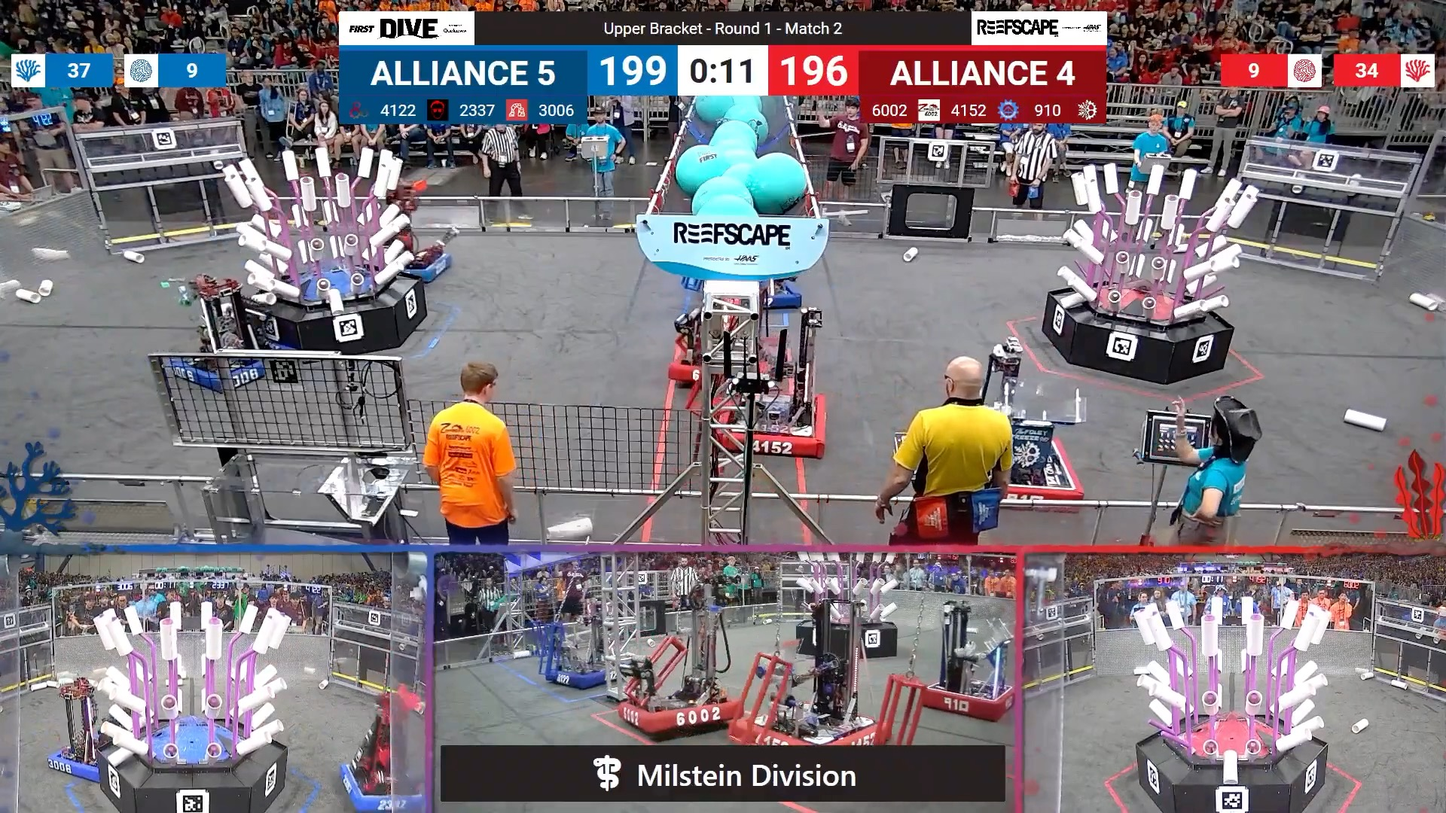bumpers: (701, 390, 834, 461), (994, 446, 1088, 512), (160, 347, 285, 394), (607, 689, 736, 731), (335, 760, 435, 812), (913, 675, 1021, 721), (740, 717, 882, 746), (44, 740, 134, 784), (384, 245, 462, 283), (538, 661, 621, 690), (754, 280, 807, 309)
